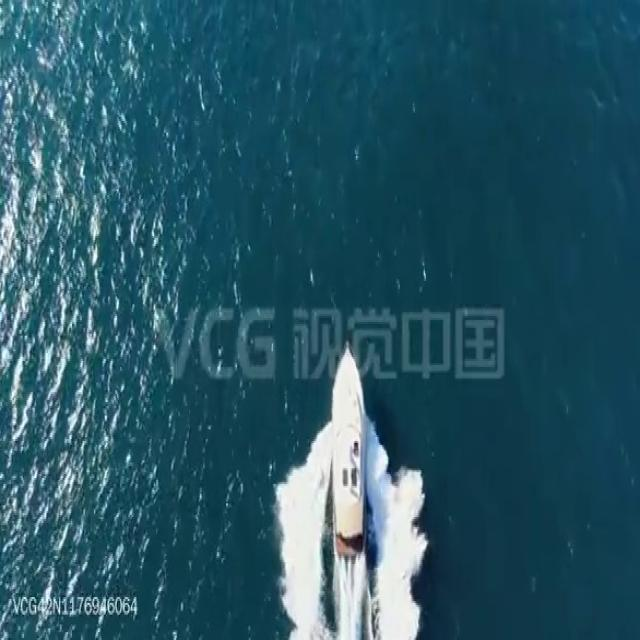houseboat: (329, 342, 370, 552)
